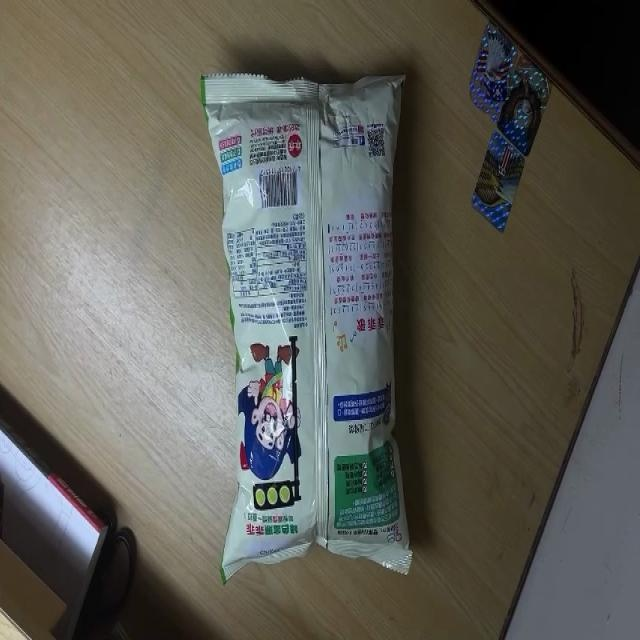Good-Luck: (199, 67, 412, 582)
